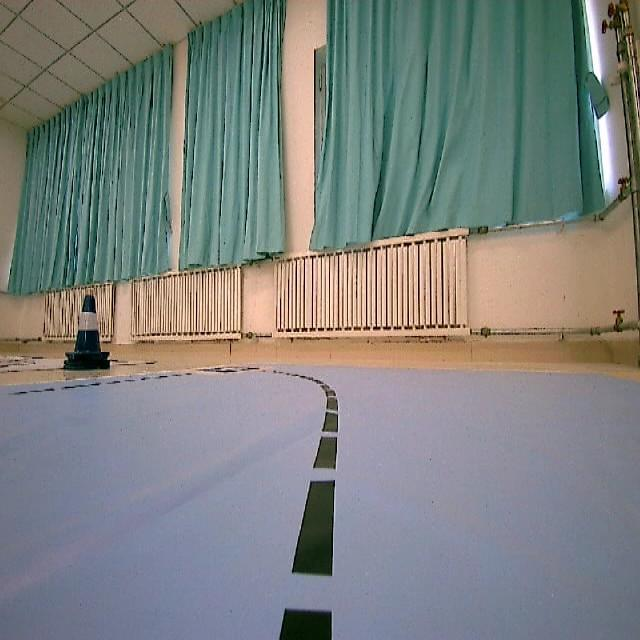obstacle: (62, 291, 108, 384)
